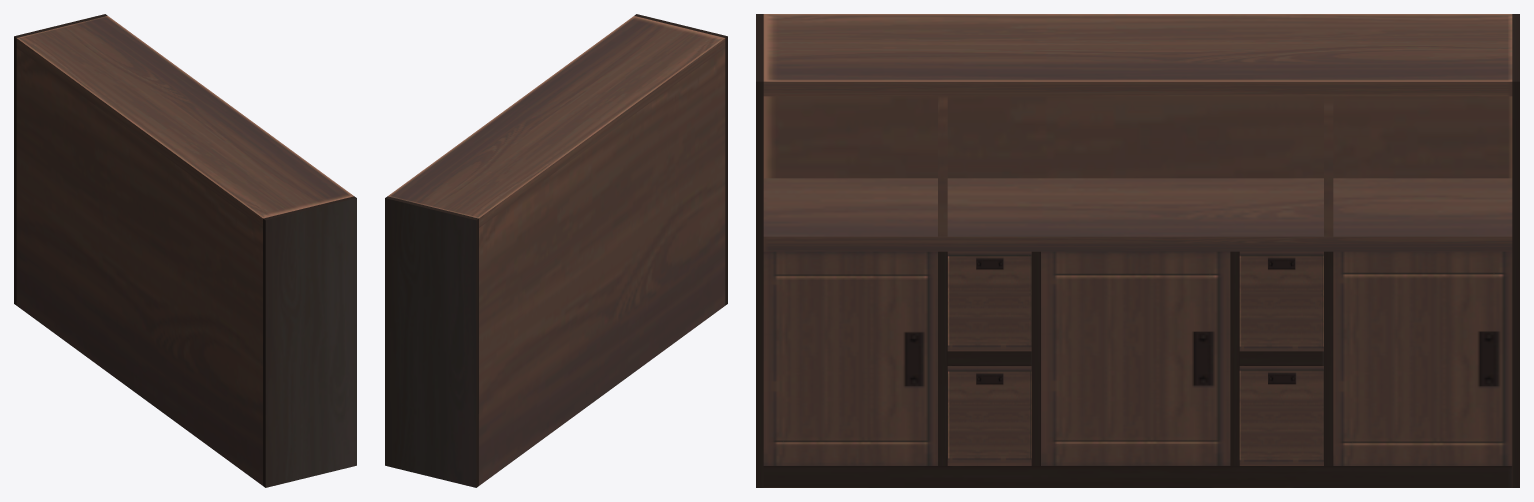
The model's file is libraries.fbx.
3 renders of one model, left to right at view 1: azimuth 30°, elevation 25°; view 2: azimuth 150°, elevation 25°; view 3: azimuth 270°, elevation 25°, orthographic. The views are drawn at different scales.
Parts seen in each view (by area): view 1: libraries.001; view 2: libraries.001; view 3: libraries.001.
Boxes of the visible parts, box(x1,y1,x2,y2) form: libraries.001: box(14, 14, 356, 487); libraries.001: box(385, 14, 727, 487); libraries.001: box(756, 14, 1519, 487).
Size of the model in its own units: 0.7647 by 2.14 by 3.65.
Materials: 1 (1 with a texture image).
